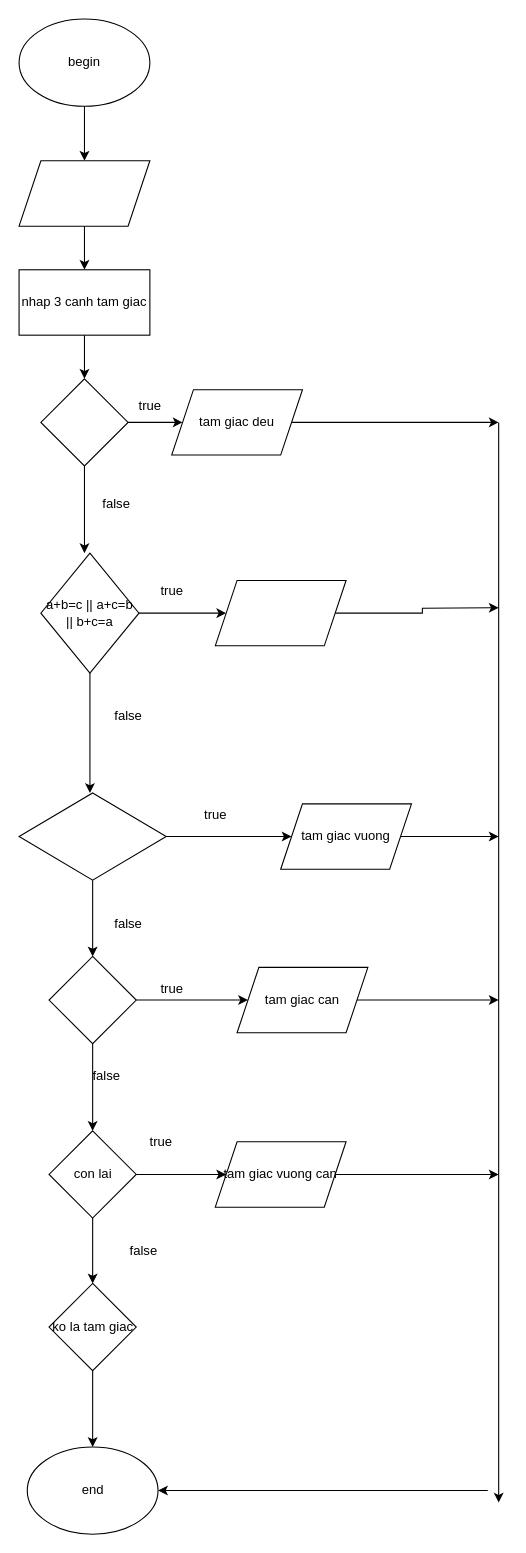
The diagram is 526 pixels wide and 1553 high, and some of its shapes have lost their labels. The shapes that lost their labels are listed below. From the top down, each one's centre as x and y in pixels, then its label:
[84,193]: a,b,c
[84,422]: a=b=c
[280,612]: tam giac thuong
[92,836]: a^2+b^2=c^2 ||a^2+c^2=b^2|| b^2+c^2=a^2
[92,999]: a=b || b=c || a=c
